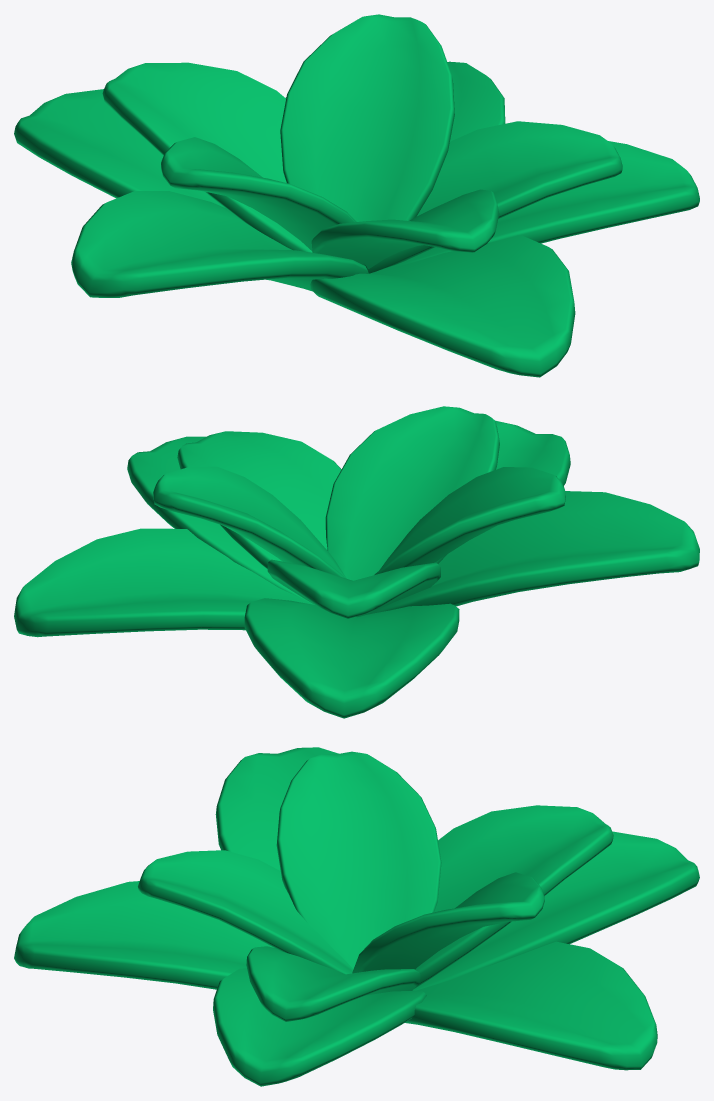
File: Farm_10_Plant_1.glb
The picture shows the model from 3 angles, top to bottom: view 1: azimuth 30°, elevation 25°; view 2: azimuth 150°, elevation 25°; view 3: azimuth 270°, elevation 25°; orthographic projection. The views are drawn at different scales.
Parts seen in each view (by area): view 1: Farm_10_Plant_1; view 2: Farm_10_Plant_1; view 3: Farm_10_Plant_1.
Part boxes in pixels (box(x1,y1,x2,y2)): Farm_10_Plant_1: box(14, 14, 699, 377); Farm_10_Plant_1: box(14, 406, 699, 718); Farm_10_Plant_1: box(14, 747, 699, 1086).
Bounding box in the file's own units: 0.6576 × 0.1971 × 0.6885.
Materials: 1 (1 with a texture image).
